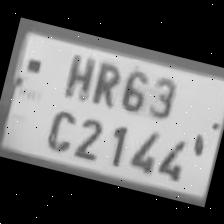1: (97, 114, 135, 169)
2: (67, 109, 108, 165)
3: (141, 68, 182, 122)
4: (122, 118, 165, 177), (151, 127, 192, 182)
6: (113, 62, 154, 116)
C: (38, 100, 80, 156)
H: (56, 46, 100, 102)
R: (84, 56, 125, 110)
